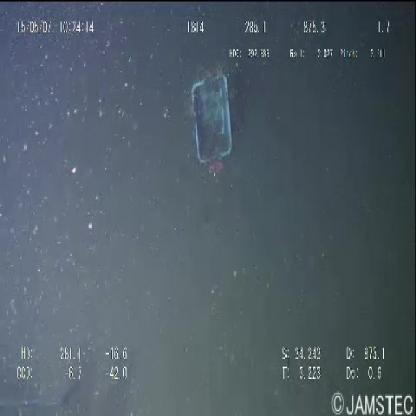Rác: (191, 72, 235, 164)
